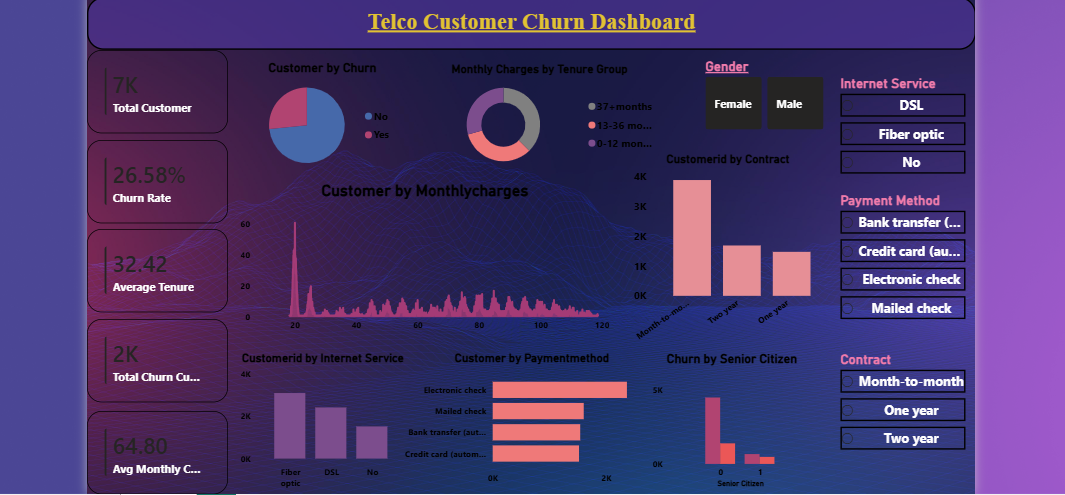

Layout of this report page (visuals, bound fields, positions):
{"tool":"powerbi","page":{"name":"Page 1","canvas":[1280,720],"ordinal":0},"visuals":[{"type":"pieChart","title":"Customer by Churn","fields":{"Category":["Telco_Customer.churn"],"Y":["CountNonNull(Telco_Customer.customerid)"]},"box":[229,95,220.3,167],"z":0},{"type":"cardVisual","fields":{"Data":["Telco_Customer.Total Churn Customer"]},"box":[0,468,203,119.5],"z":1000},{"type":"cardVisual","fields":{"Data":["Telco_Customer.Churn Rate"]},"box":[0,210.2,203,119.5],"z":2000},{"type":"textbox","box":[0,4.4,1280.5,76.1],"z":3000},{"type":"advancedSlicerVisual","title":"Gender","fields":{"Values":["Telco_Customer.gender"]},"box":[885.6,92.2,181.4,108],"z":4000},{"type":"clusteredColumnChart","title":"Customerid by Contract","fields":{"Category":["Telco_Customer.contract"],"Y":["CountNonNull(Telco_Customer.customerid)"]},"box":[767.5,227.5,311,285.1],"z":5000},{"type":"barChart","title":"Customer by Paymentmethod","fields":{"Category":["Telco_Customer.paymentmethod"],"Y":["CountNonNull(Telco_Customer.customerid)"]},"box":[439.2,514.1,403.2,201.6],"z":6000},{"type":"columnChart","title":"Customerid by Internet Service","fields":{"Category":["Telco_Customer.internetservice"],"Y":["CountNonNull(Telco_Customer.customerid)"]},"box":[216,514.1,247.7,205.9],"z":7000},{"type":"lineChart","title":"Customer by Monthlycharges","fields":{"Category":["Telco_Customer.monthlycharges"],"Y":["Count(Telco_Customer.customerid)"]},"box":[216,269.3,541.4,226.1],"z":8000},{"type":"donutChart","title":"Monthly Charges by Tenure Group","fields":{"Category":["Telco_Customer.Tenure Group"],"Y":["Telco_Customer.Avg Monthly Charges"]},"box":[473.8,97.9,355.7,161.3],"z":9000},{"type":"listSlicer","title":"Internet Service","fields":{"Values":["Telco_Customer.internetservice"]},"box":[1080,116.6,190.1,152.6],"z":10000},{"type":"cardVisual","fields":{"Data":["Telco_Customer.Avg Monthly Charges"]},"box":[0,600.5,203,119.5],"z":11000},{"type":"cardVisual","fields":{"Data":["Telco_Customer.Average Tenure"]},"box":[0,338.4,203,119.5],"z":12000},{"type":"cardVisual","fields":{"Data":["Telco_Customer.Total Customer"]},"box":[0,80.6,203,119.5],"z":13000},{"type":"listSlicer","title":"Payment Method","fields":{"Values":["Telco_Customer.paymentmethod"]},"box":[1080,285.1,190.1,194.4],"z":14000},{"type":"listSlicer","title":"Contract","fields":{"Values":["Telco_Customer.contract"]},"box":[1080,514.1,190.1,194.4],"z":15000},{"type":"clusteredColumnChart","title":"Churn by Senior Citizen","fields":{"Category":["Telco_Customer.seniorcitizen"],"Y":["CountNonNull(Telco_Customer.customerid)"],"Series":["Telco_Customer.churn"]},"box":[809.3,514.1,239,201.6],"z":16000}]}

Visuals, with their boxes on the page's 1280x720 design canvas (x1, y1, x2, y2). These are canvas units, not pixel positions in the 1065x495 screenshot, which may show the page scaled, cropped or inside an application window:
"Customer by Churn" pieChart: bbox=(229, 95, 449, 262)
cardVisual - Telco_Customer.Total Churn Customer: bbox=(0, 468, 203, 588)
cardVisual - Telco_Customer.Churn Rate: bbox=(0, 210, 203, 330)
textbox: bbox=(0, 4, 1280, 80)
"Gender" advancedSlicerVisual: bbox=(886, 92, 1067, 200)
"Customerid by Contract" clusteredColumnChart: bbox=(768, 228, 1078, 513)
"Customer by Paymentmethod" barChart: bbox=(439, 514, 842, 716)
"Customerid by Internet Service" columnChart: bbox=(216, 514, 464, 720)
"Customer by Monthlycharges" lineChart: bbox=(216, 269, 757, 495)
"Monthly Charges by Tenure Group" donutChart: bbox=(474, 98, 830, 259)
"Internet Service" listSlicer: bbox=(1080, 117, 1270, 269)
cardVisual - Telco_Customer.Avg Monthly Charges: bbox=(0, 600, 203, 720)
cardVisual - Telco_Customer.Average Tenure: bbox=(0, 338, 203, 458)
cardVisual - Telco_Customer.Total Customer: bbox=(0, 81, 203, 200)
"Payment Method" listSlicer: bbox=(1080, 285, 1270, 480)
"Contract" listSlicer: bbox=(1080, 514, 1270, 708)
"Churn by Senior Citizen" clusteredColumnChart: bbox=(809, 514, 1048, 716)
